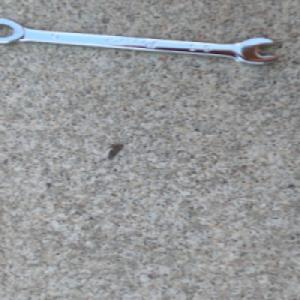Wrench: (0, 16, 280, 65)
